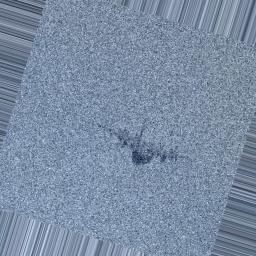Airplane: (99, 120, 189, 168)
